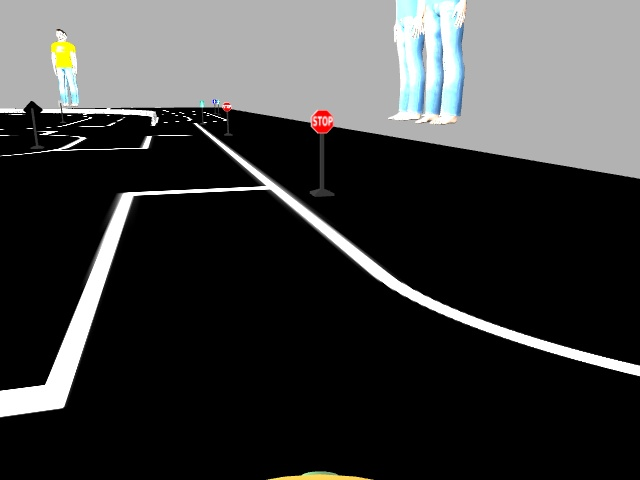Stop: (310, 109, 332, 133), (221, 101, 230, 111)
